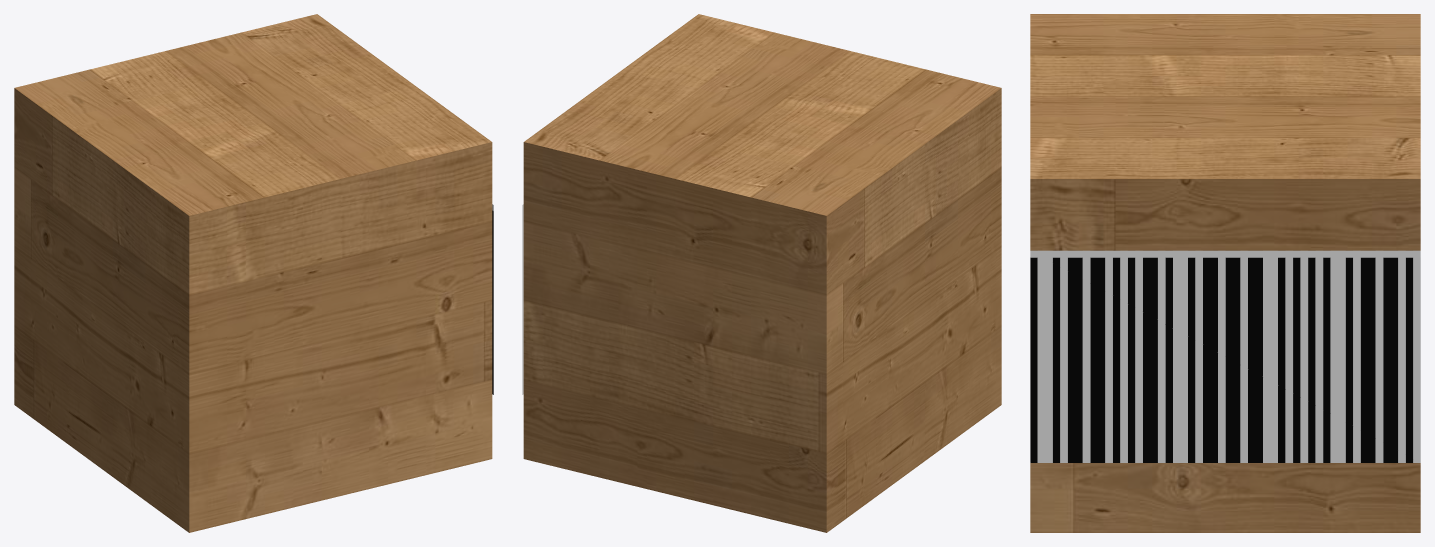
File: caixa B3.dae
3 renders of one model, left to right at view 1: azimuth 30°, elevation 25°; view 2: azimuth 150°, elevation 25°; view 3: azimuth 270°, elevation 25°, orthographic. The views are drawn at different scales.
Visible parts, largest first — view 1: Cube; view 2: Cube; view 3: Cube, Plane.
Part boxes in pixels (x1,y1,x2,y2): Cube: (14, 14, 492, 532); Cube: (523, 14, 1001, 532); Cube: (1030, 14, 1420, 532); Plane: (1030, 250, 1420, 462).
Size of the model in its own units: 0.1005 by 0.1 by 0.1.
2 materials, 2 textured.
